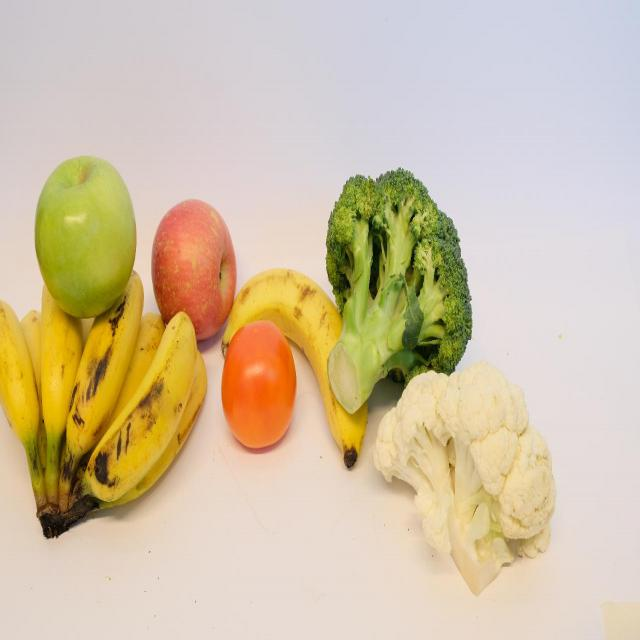apple: (29, 148, 140, 324), (149, 194, 237, 348)
banana: (218, 266, 378, 484), (89, 311, 198, 502), (64, 268, 143, 456), (42, 276, 88, 444), (0, 296, 42, 456)
broccoli: (320, 162, 479, 416)
cauliflower: (368, 353, 562, 591)
tomato: (219, 318, 301, 454)
